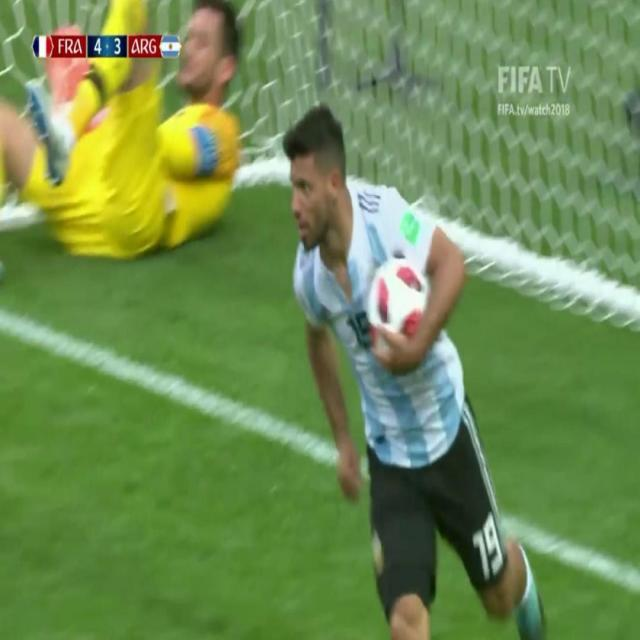ball: (359, 262, 440, 364)
goalkeeper: (0, 0, 257, 269)
player: (279, 91, 540, 640)
